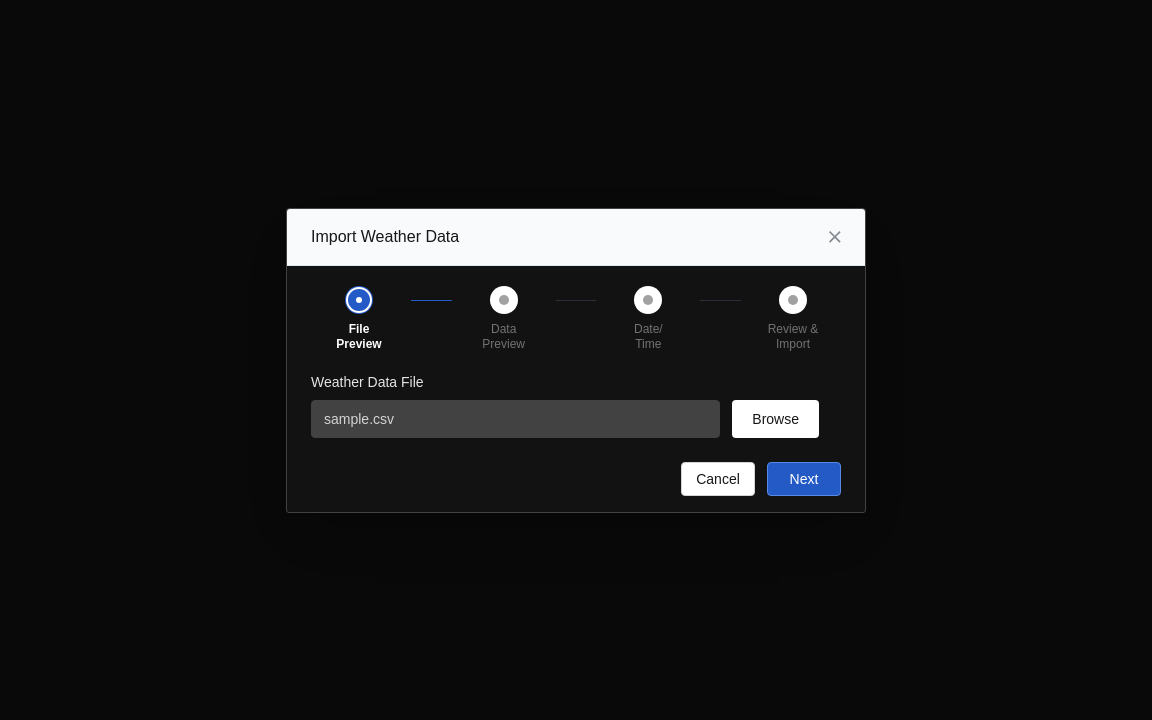
Test case: <ImportWizard /> › shows a spinner on the Import button and disables it while importing
Click the button "Next": point(804, 478) [767, 462, 841, 496]
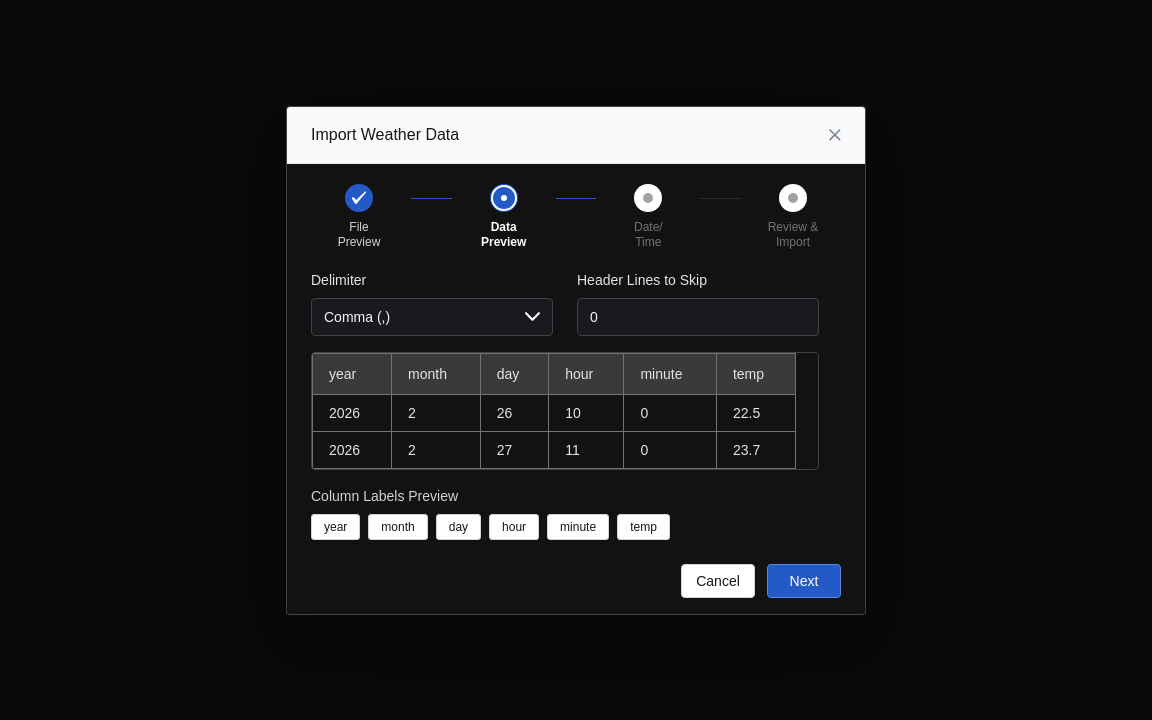
Click the button "Next": point(804, 580) [767, 564, 841, 598]
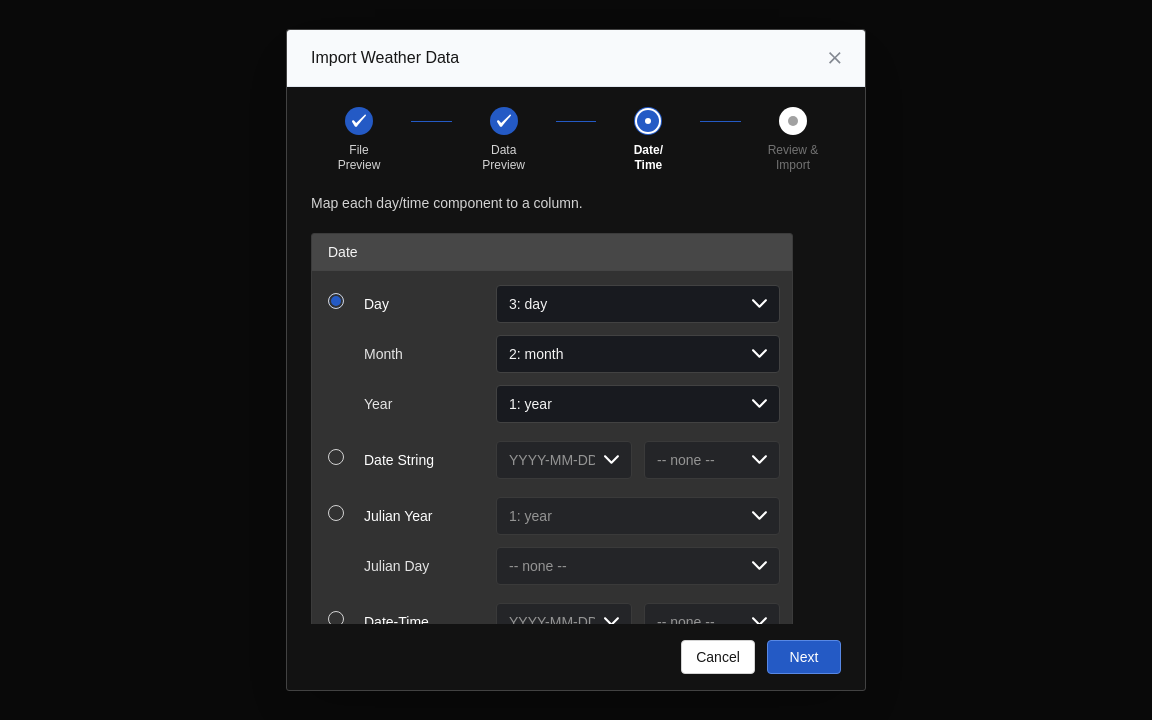
Click the button "Next": point(804, 657) [767, 640, 841, 674]
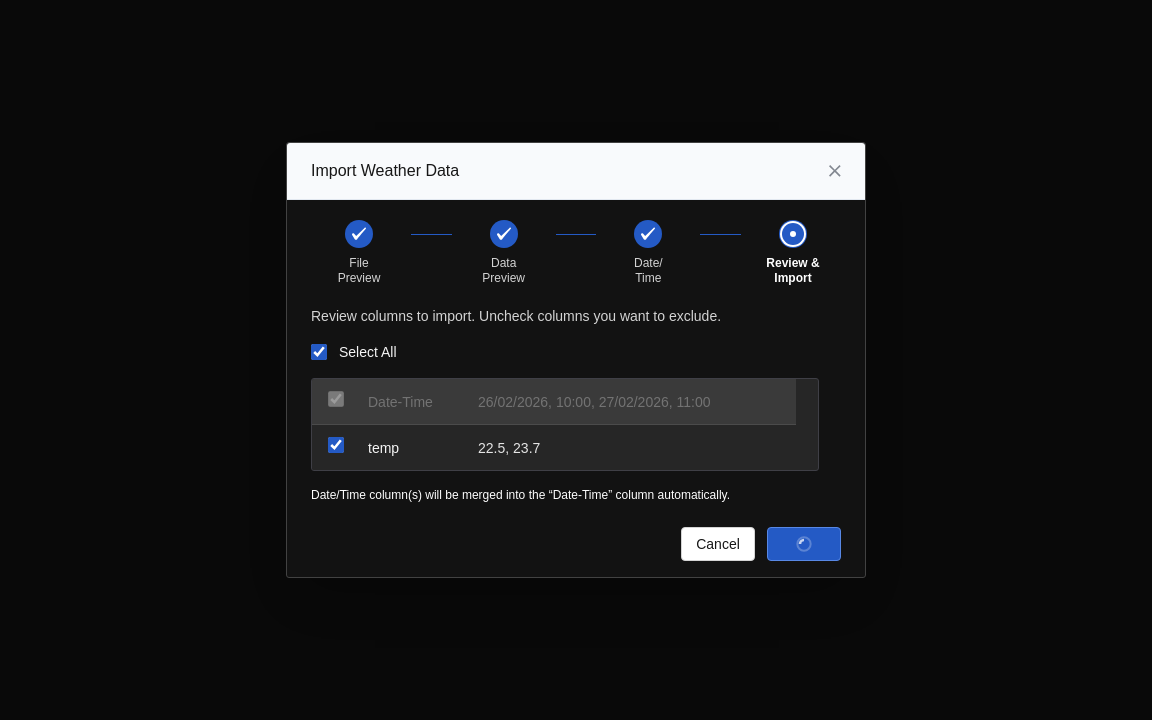
Expected: the button named "Loading" is disabled, [767, 527, 841, 561]
